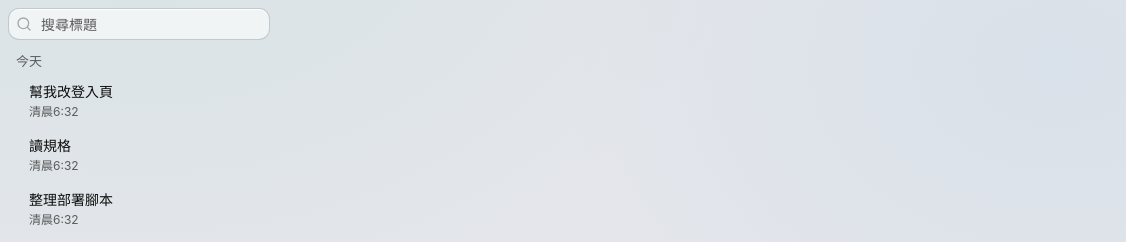
Scenario: 有開內容搜尋 › 標題對得上的先畫；內容命中回來之後接在後面，掛上片段、標亮
Type "部署" into the search field named "搜尋以前的會話" at (139, 24), box [8,8,270,40]
Wait 250 ms
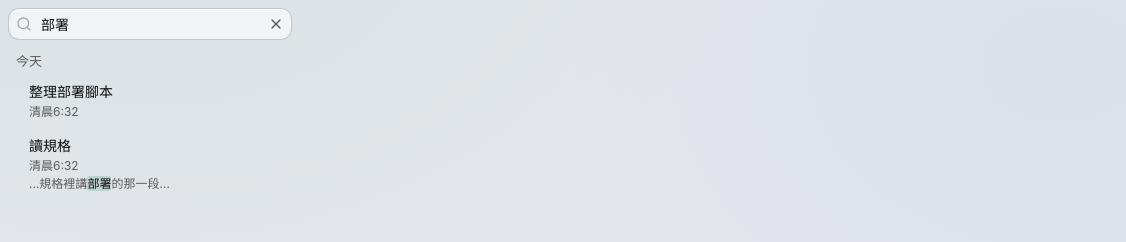
Expected: the element with test id "thread-snippet" reads "…規格裡講部署的那一段…", [29,176,170,191]
